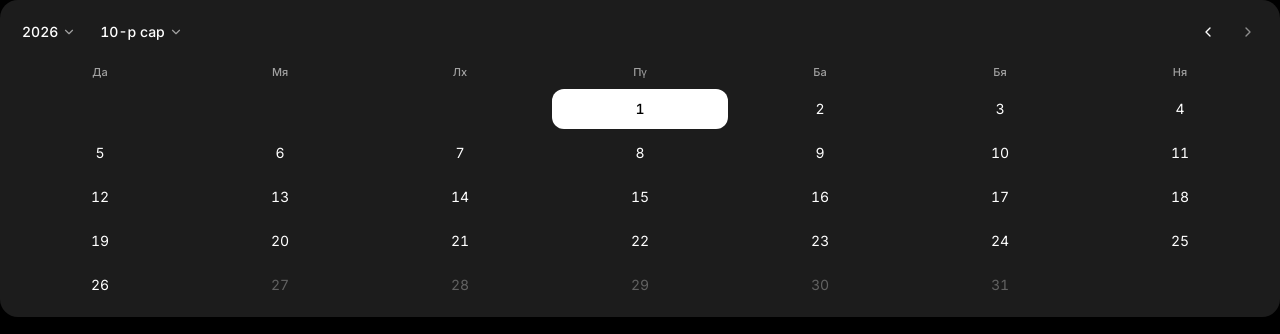
Test: BirthdayPicker › ирээдүйн өдөр, сарыг сонгуулахгүй
Expected: the button named "2026-10-27" is disabled, [192,264,368,304]
Expected: the button named "Дараах сар" is disabled, [1228,12,1268,52]
Click the button "10-р сар" at (142, 32), box [90,14,193,50]
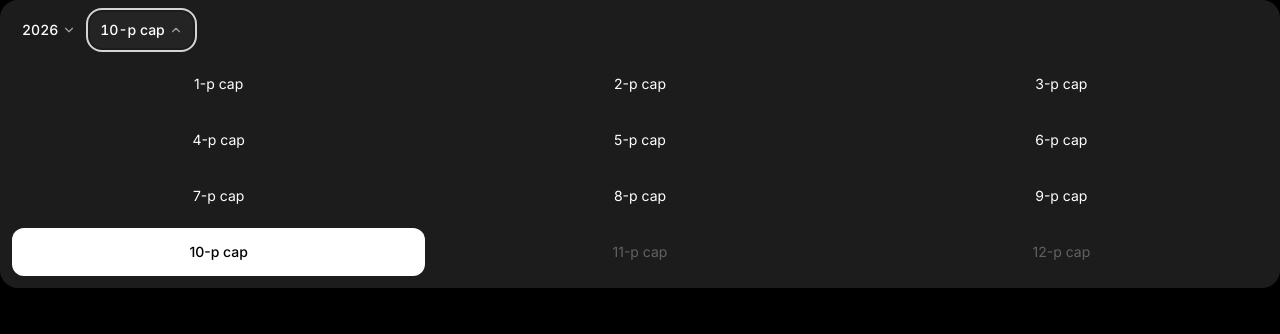
Result: the button "11-р сар" is disabled at [433,228,847,276]
